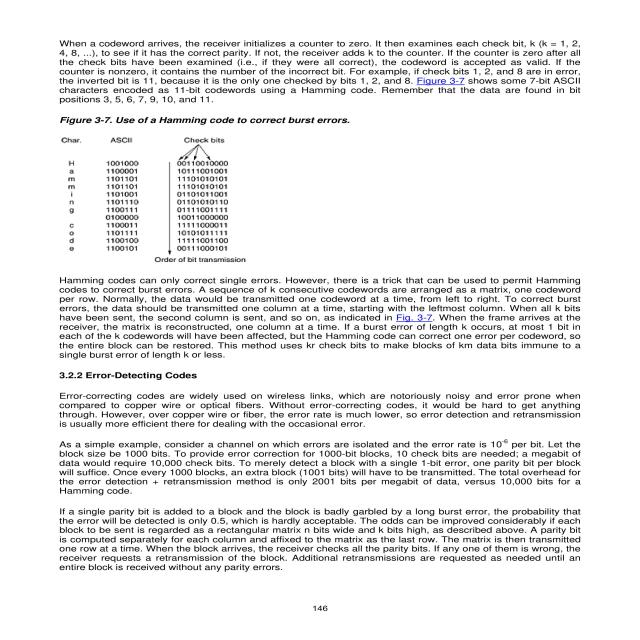diagram: (34, 115, 423, 273)
